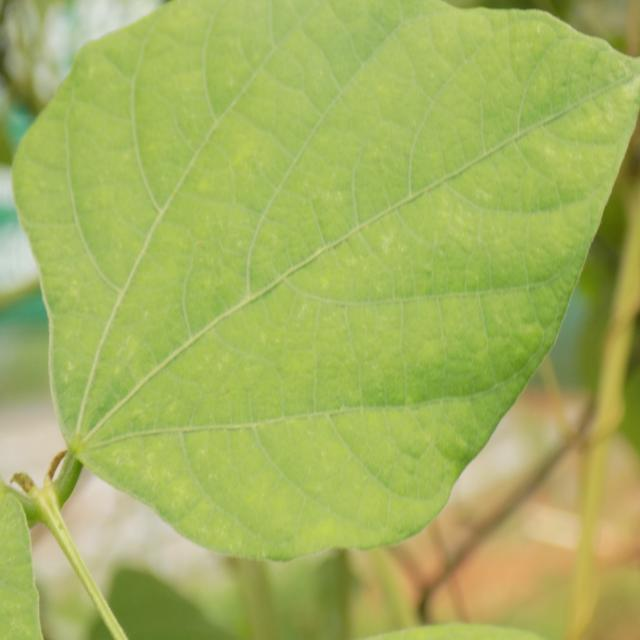Dolicos bean_healthy: (10, 0, 640, 559)
